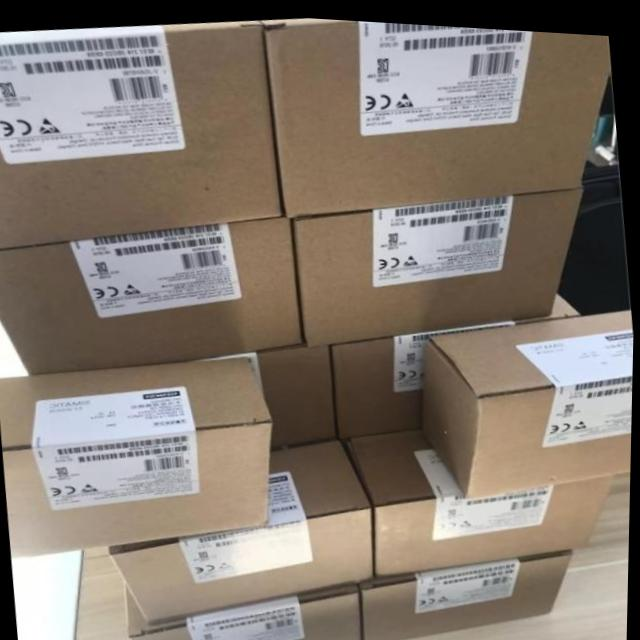box: (259, 14, 610, 214), (0, 17, 282, 249), (0, 355, 272, 556), (111, 437, 374, 622), (0, 214, 303, 374), (294, 181, 582, 342), (424, 301, 635, 492), (347, 426, 614, 572), (330, 286, 581, 434), (361, 544, 574, 640), (126, 581, 364, 640), (248, 340, 337, 444)
